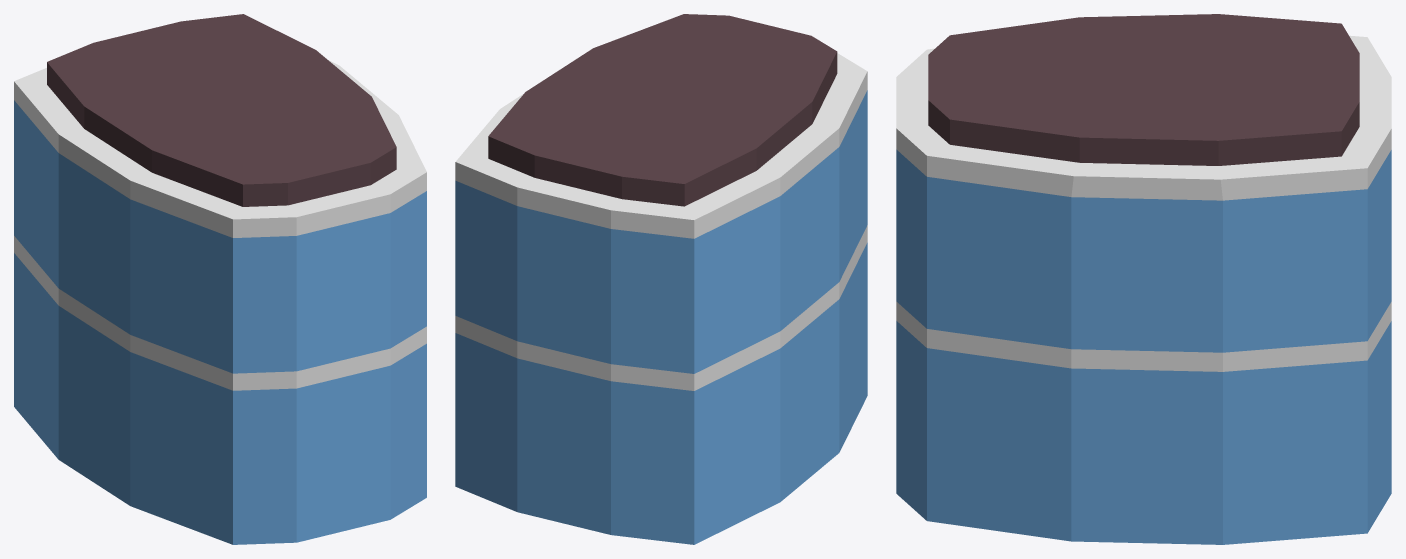
Rendered from building_1x1_10_r.glb.
The picture shows the model from 3 angles, left to right: view 1: azimuth 30°, elevation 25°; view 2: azimuth 150°, elevation 25°; view 3: azimuth 270°, elevation 25°; orthographic projection. The views are drawn at different scales.
Parts seen in each view (by area): view 1: Cube.002; view 2: Cube.002; view 3: Cube.002.
Boxes of the visible parts, x1,y1,x2,y2 form: Cube.002: (14,14,426,544); Cube.002: (455,14,867,544); Cube.002: (896,14,1391,544).
Size of the model in its own units: 1.37 by 1.63 by 1.87.
